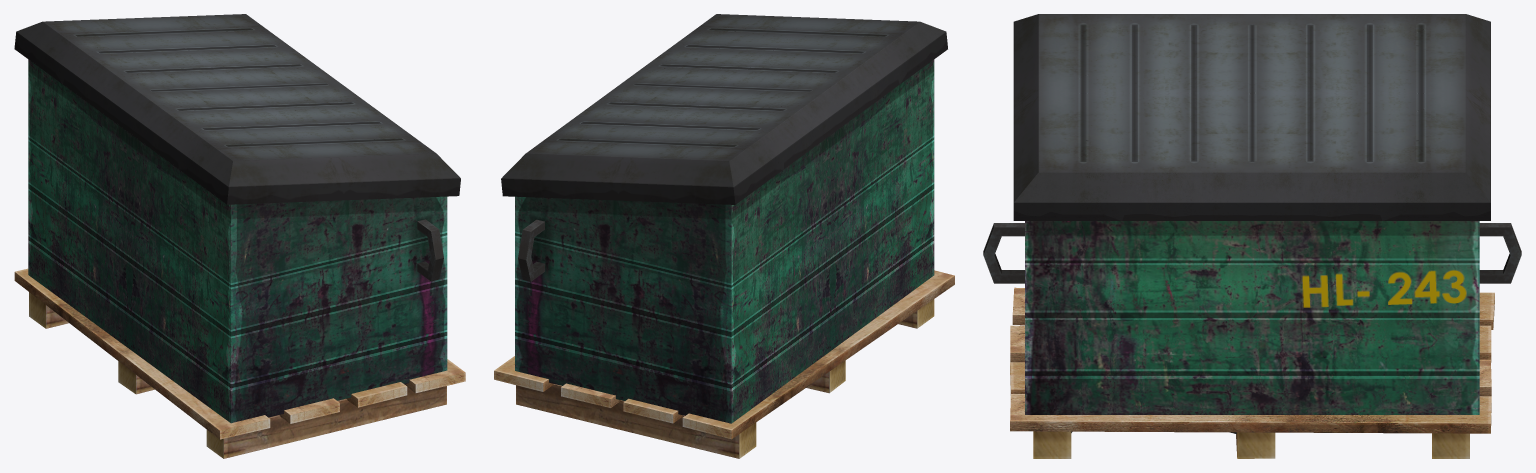
Rendered from garbage pack.fbx.
The picture shows the model from 3 angles, left to right: view 1: azimuth 30°, elevation 25°; view 2: azimuth 150°, elevation 25°; view 3: azimuth 270°, elevation 25°; orthographic projection. The views are drawn at different scales.
Parts seen in each view (by area): view 1: dumbster_01, palette_01; view 2: dumbster_01, palette_01; view 3: dumbster_01, palette_01.
Boxes of the visible parts, box(x1,y1,x2,y2) form: dumbster_01: box(14, 14, 460, 423); palette_01: box(14, 268, 465, 458); dumbster_01: box(501, 14, 947, 423); palette_01: box(494, 270, 954, 458); dumbster_01: box(983, 14, 1521, 432); palette_01: box(1010, 287, 1494, 458).
Bounding box in the file's own units: 2.54 × 3 × 4.26.
